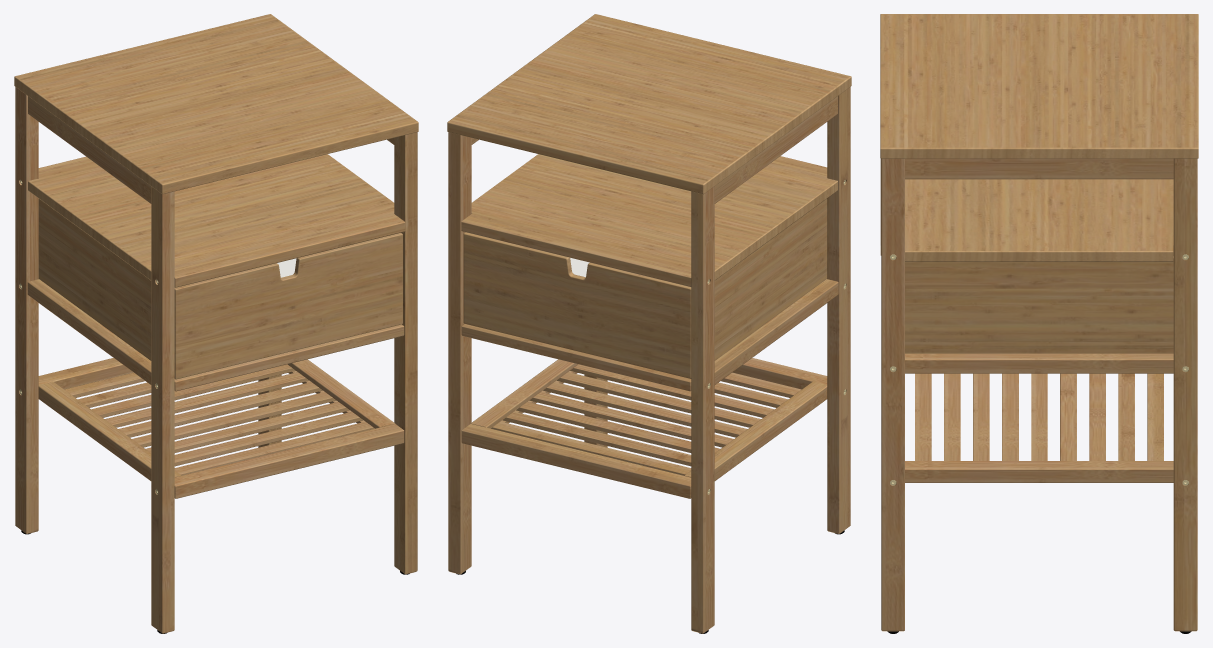
Rendered from LB-BR-NIGHTSTAND-01.glb.
The picture shows the model from 3 angles, left to right: view 1: azimuth 30°, elevation 25°; view 2: azimuth 150°, elevation 25°; view 3: azimuth 270°, elevation 25°; orthographic projection. The views are drawn at different scales.
Parts seen in each view (by area): view 1: 60447677-NORDKISA001; view 2: 60447677-NORDKISA001; view 3: 60447677-NORDKISA001.
Boxes of the visible parts, box(x1,y1,x2,y2) form: 60447677-NORDKISA001: box(14, 14, 418, 633); 60447677-NORDKISA001: box(447, 14, 851, 633); 60447677-NORDKISA001: box(880, 14, 1198, 633).
Size of the model in its own units: 0.4 by 0.675 by 0.4.
Materials: 1 (1 with a texture image).
